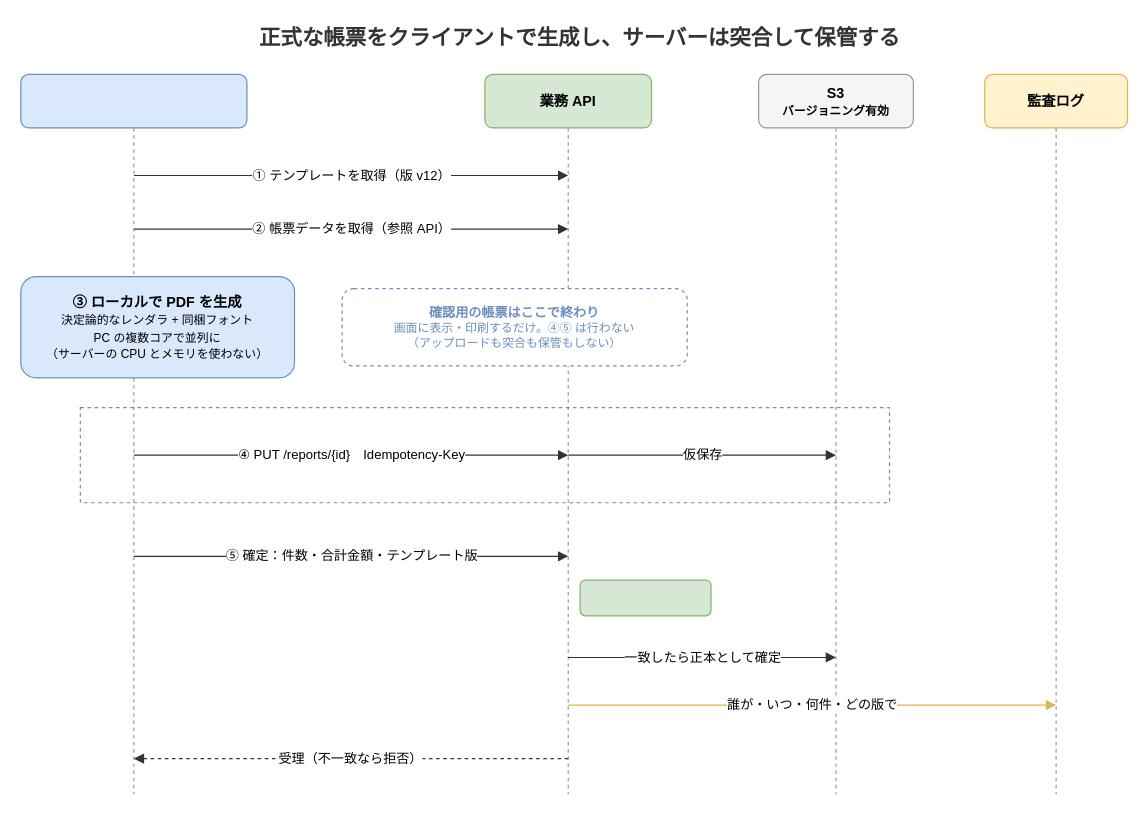
The diagram is 1148 pixels wide and 816 high, and some of its shapes have lost their labels. Here are the shapes that lost their labels. From the top down, the centre of each, then its label:
the point at 133,100: デスクトップアプリ 帳票レンダラ + API クライアント
the point at 484,454: 1 件ずつ（冪等）
the point at 645,597: DB の値と突合
